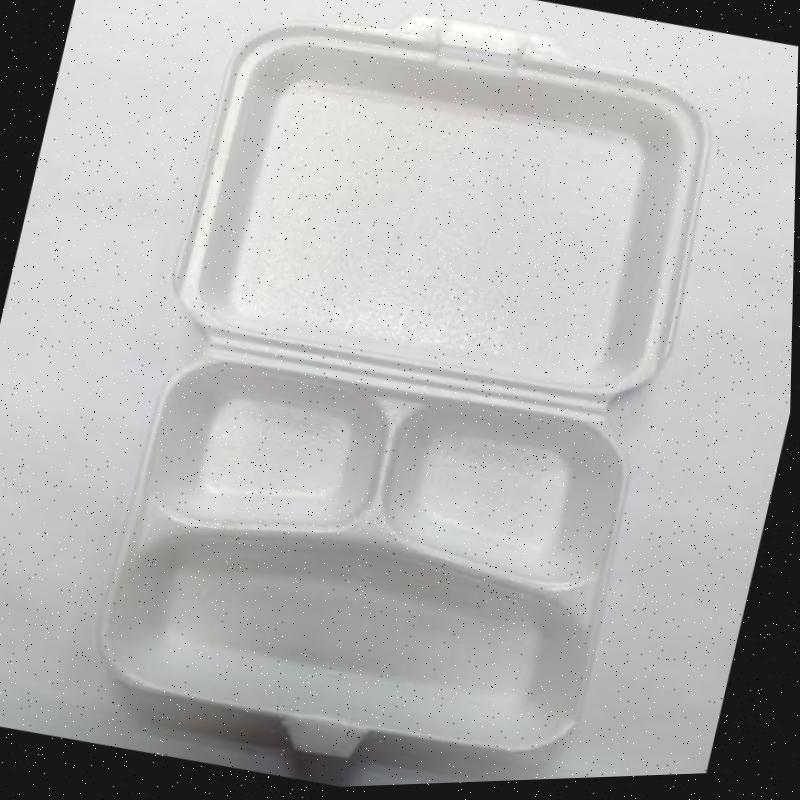styrofoam containers: (95, 17, 710, 758)
